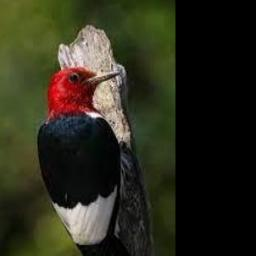Woodpecker: (34, 67, 134, 256)
